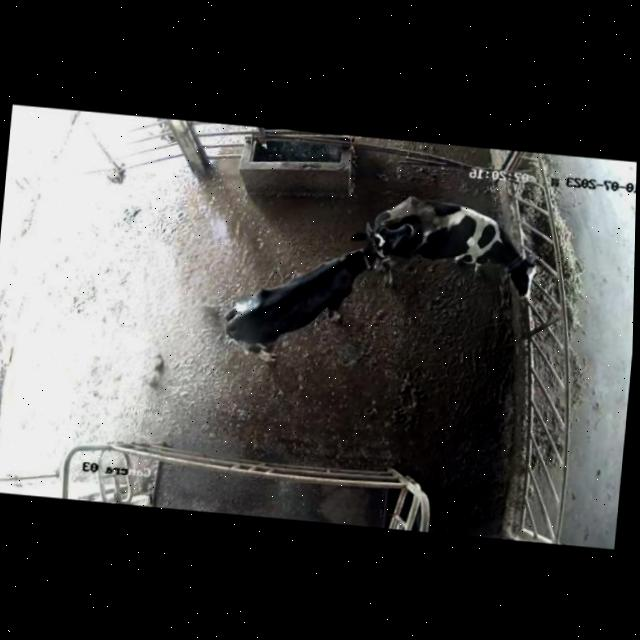propping: (339, 196, 438, 279)
stand: (360, 186, 546, 310)
